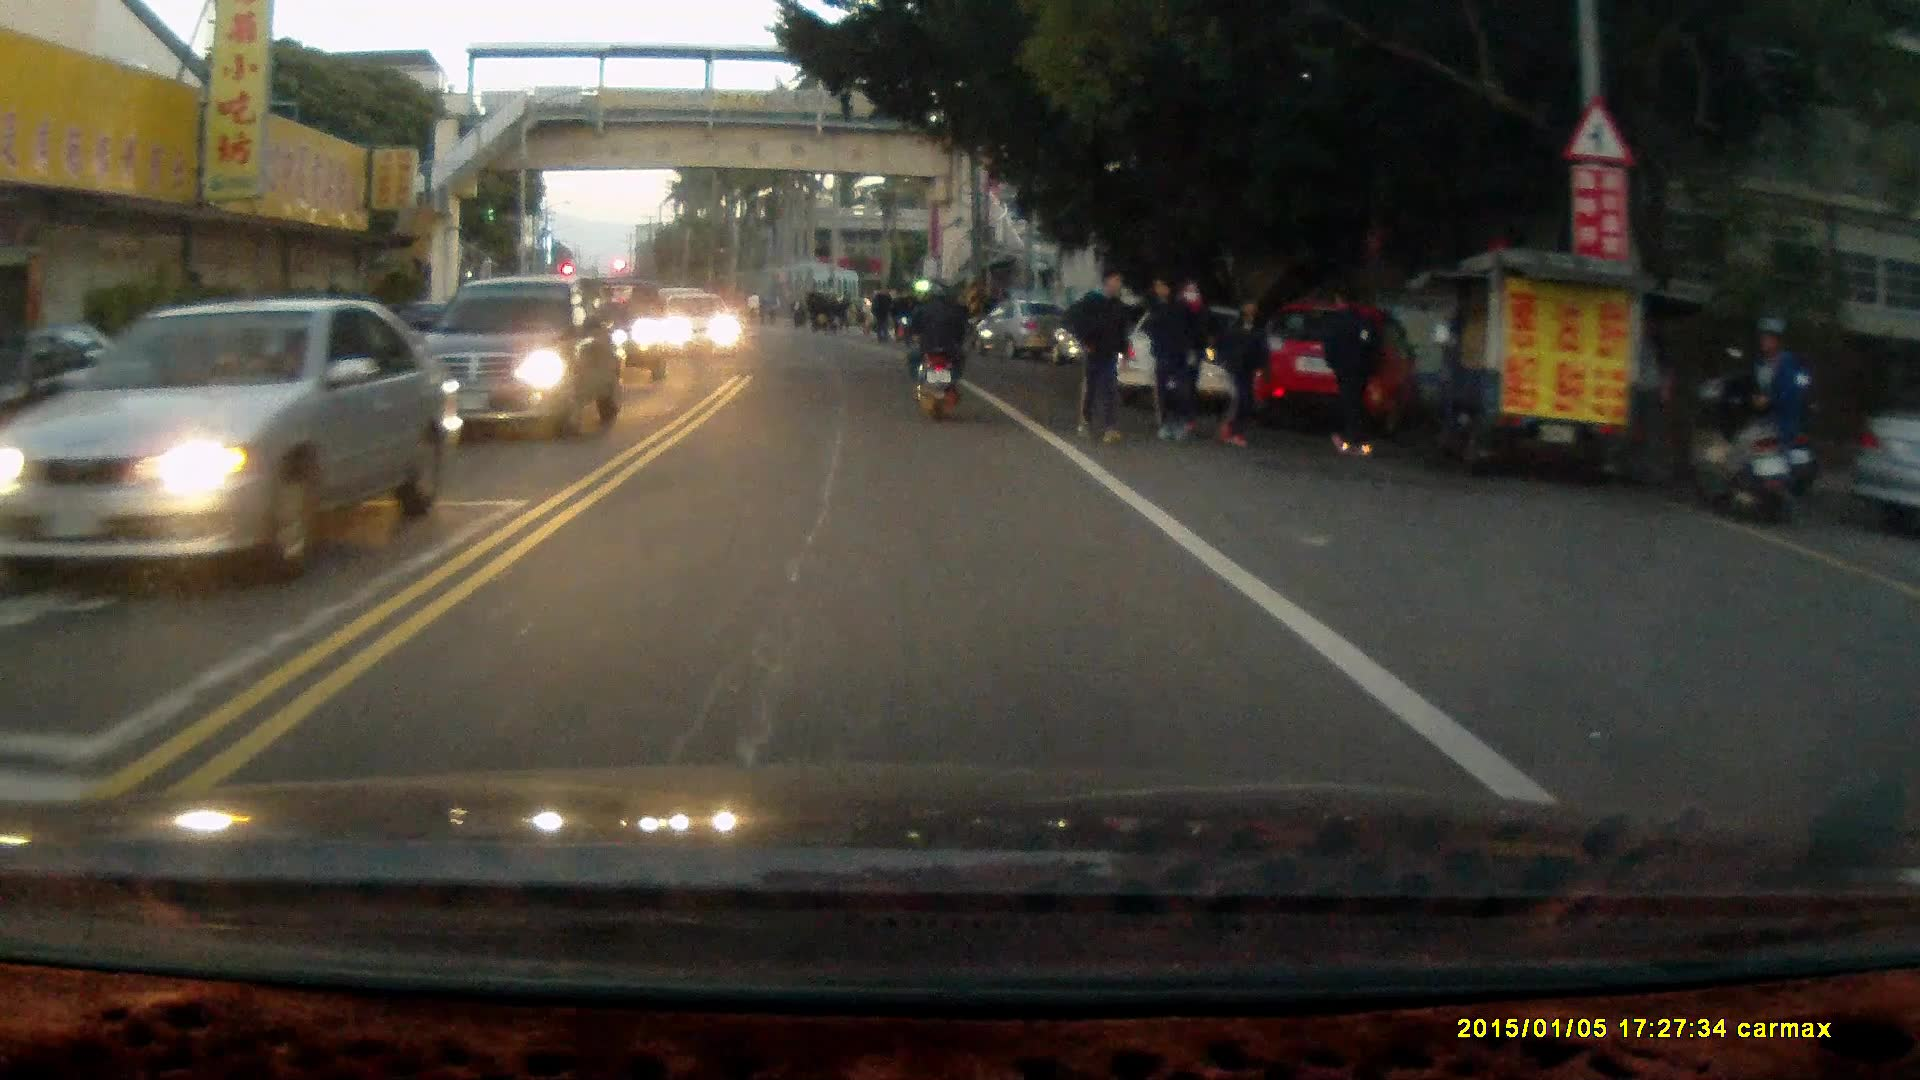pedestrian: (1066, 259, 1137, 447), (1757, 298, 1820, 497), (1315, 287, 1383, 455), (1213, 291, 1277, 451), (1143, 273, 1198, 445)
rider: (898, 275, 971, 425)
vehicle: (21, 298, 454, 587), (421, 275, 624, 437), (1240, 296, 1419, 429), (1112, 300, 1305, 422), (661, 295, 748, 363), (981, 301, 1065, 362)
